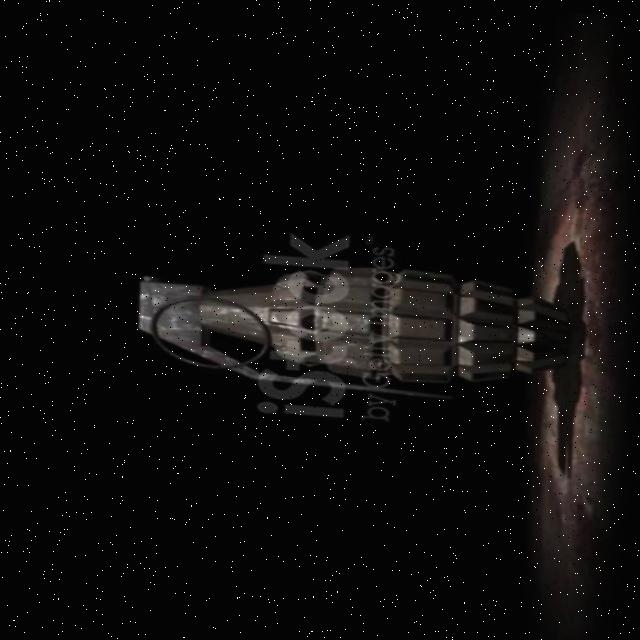grenade: (109, 239, 591, 409)
